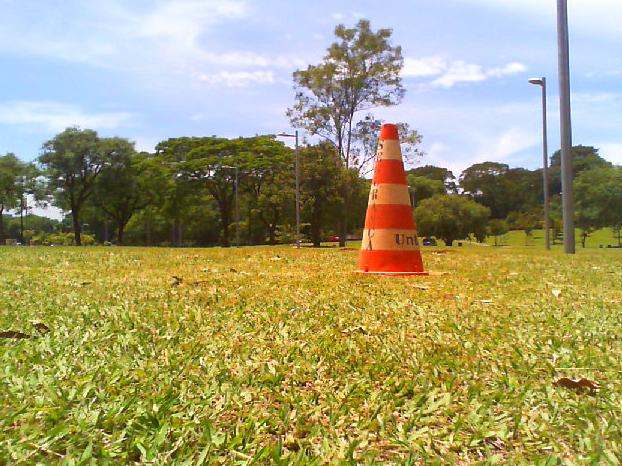0 cone: (354, 123, 428, 276)
